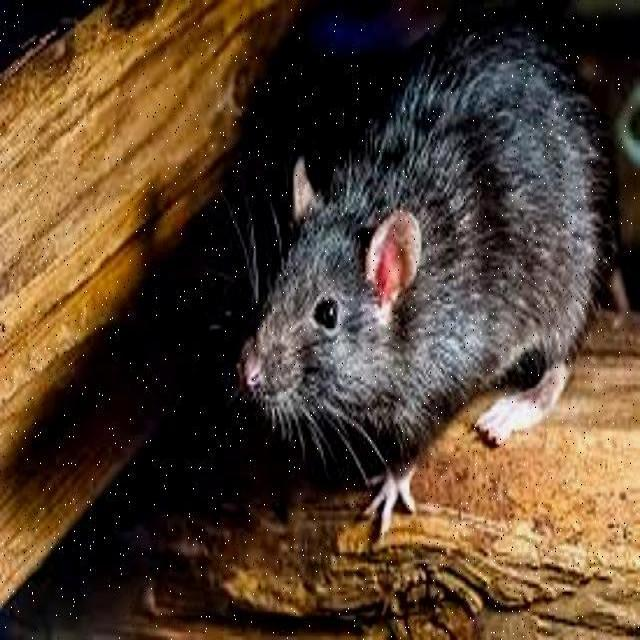rat: (248, 16, 607, 528)
